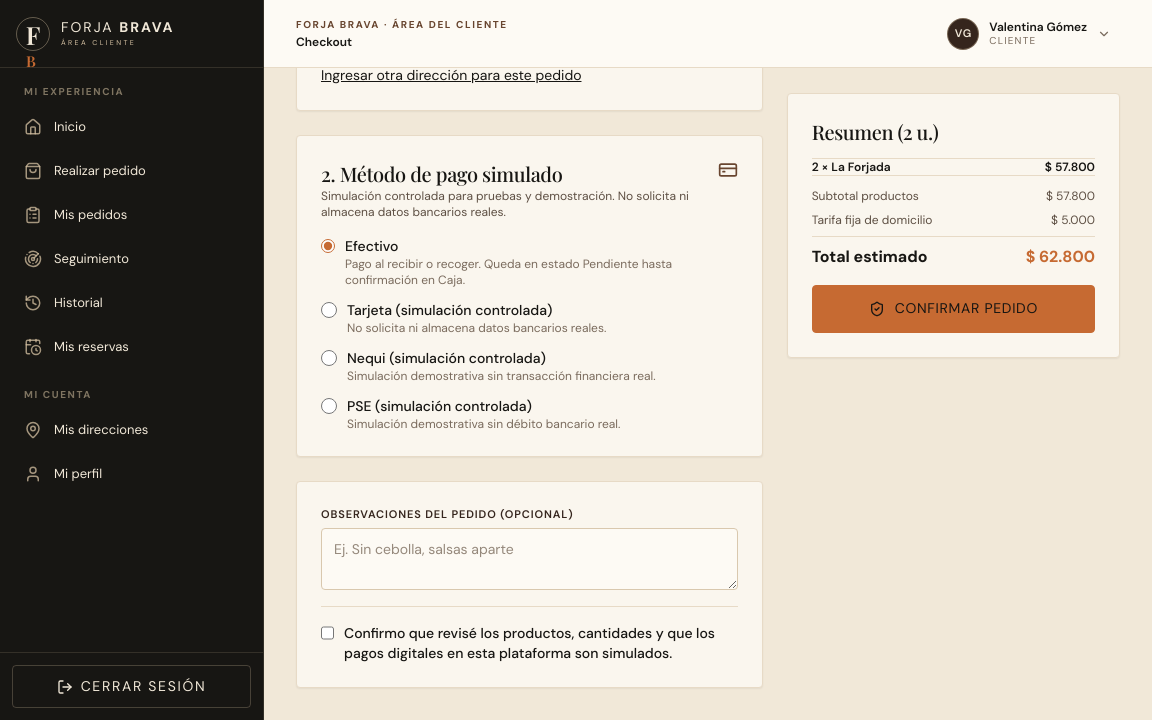
Test: Integración — Etapas 6 y 7 (Direcciones, Checkout, Reservas, Mesas) › permite completar Checkout a domicilio con dirección guardada y muestra confirmación transaccional
(page scrolled)
Expected: the text "Casa" is shown, [334, 9, 363, 25]
Click the checkbox labelled "Confirmo que revisé". click: (328, 633)
box: [321, 625, 334, 641]
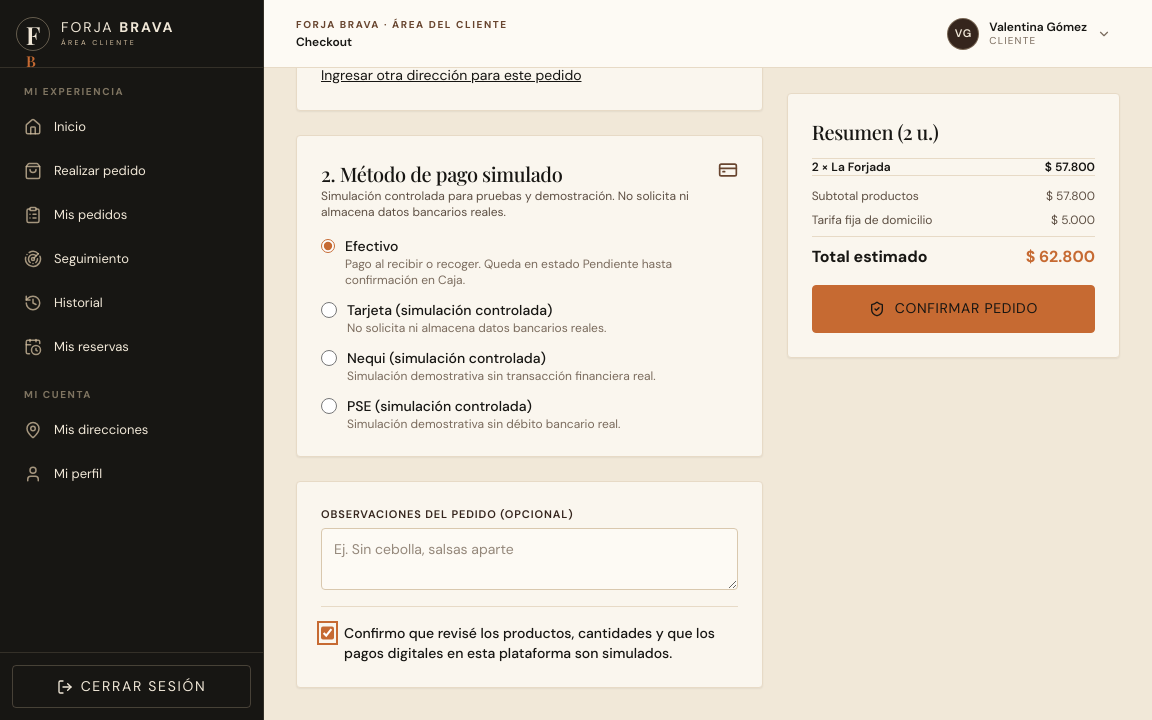
Click the button "Confirmar pedido". click: (953, 308)
box: [812, 284, 1095, 332]
(page scrolled)
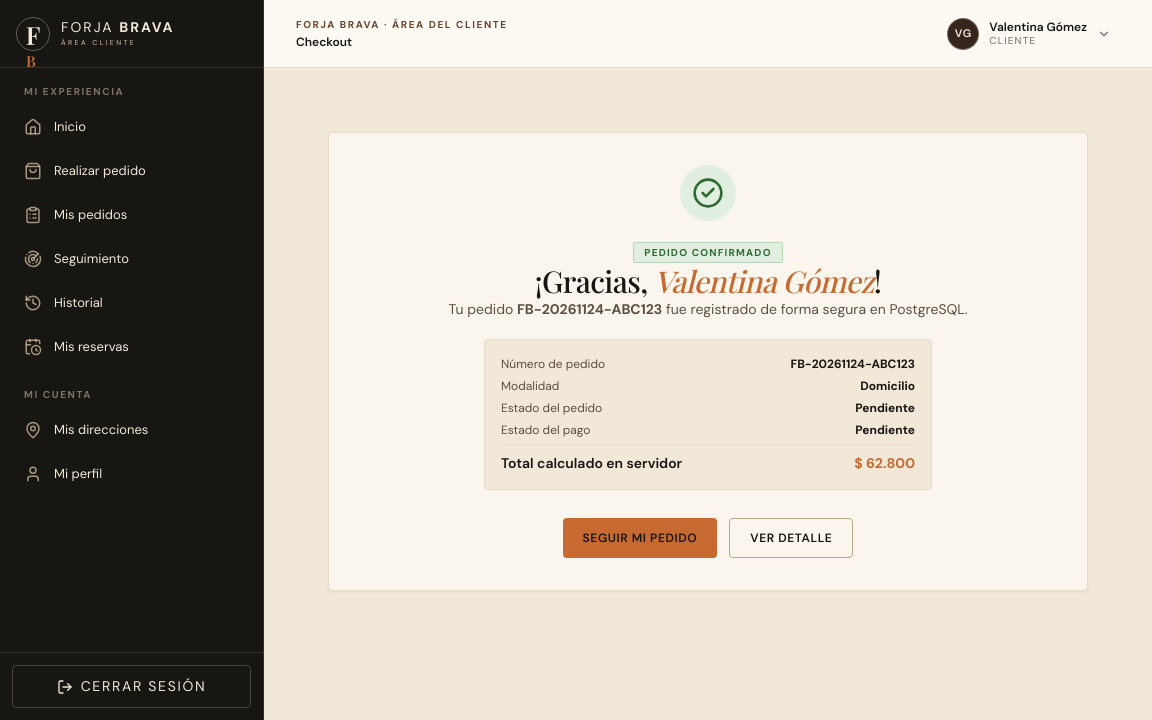
Now the text "FB-20261124-ABC123" next to "Tu pedido" is shown, box [517, 300, 662, 318]
